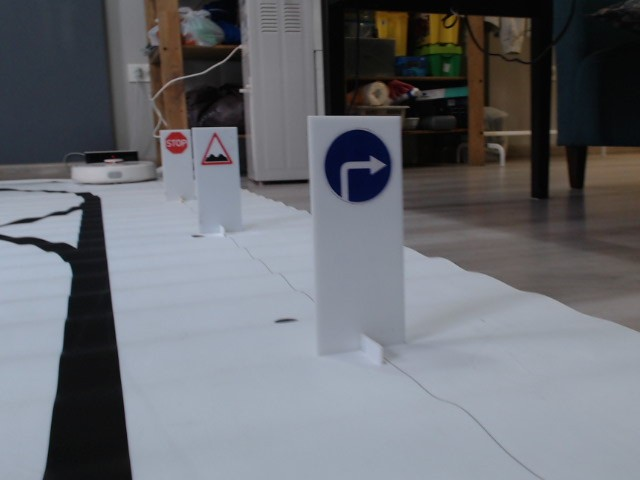Nerov: (200, 132, 233, 165)
Right: (324, 128, 392, 203)
Stop: (163, 132, 188, 156)
